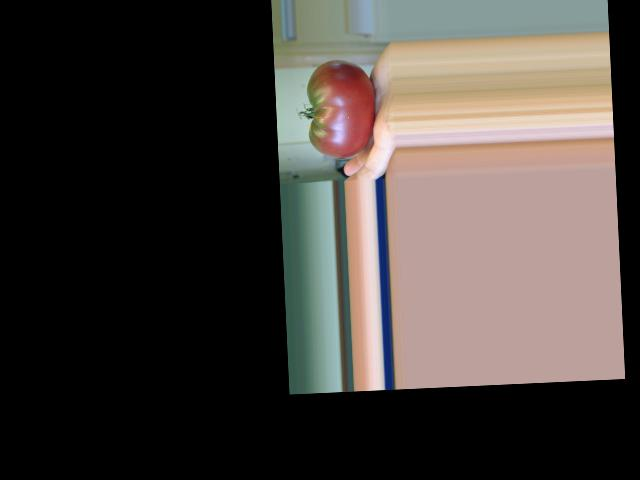tomato: (305, 58, 377, 159)
